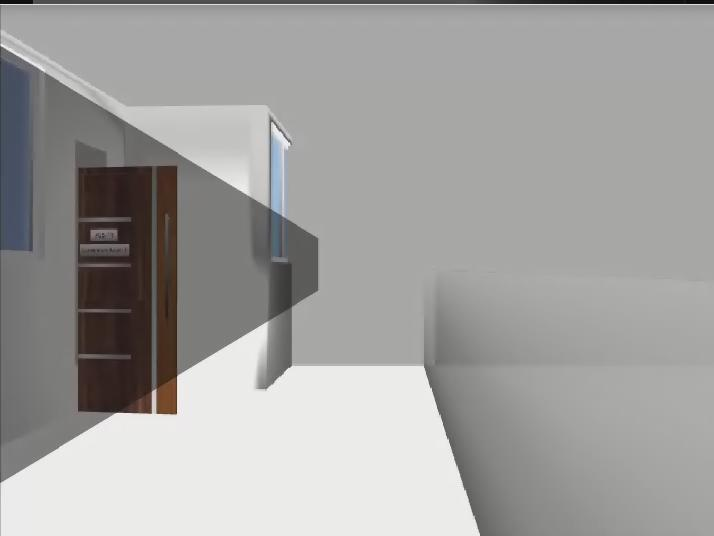door: (79, 166, 177, 415)
